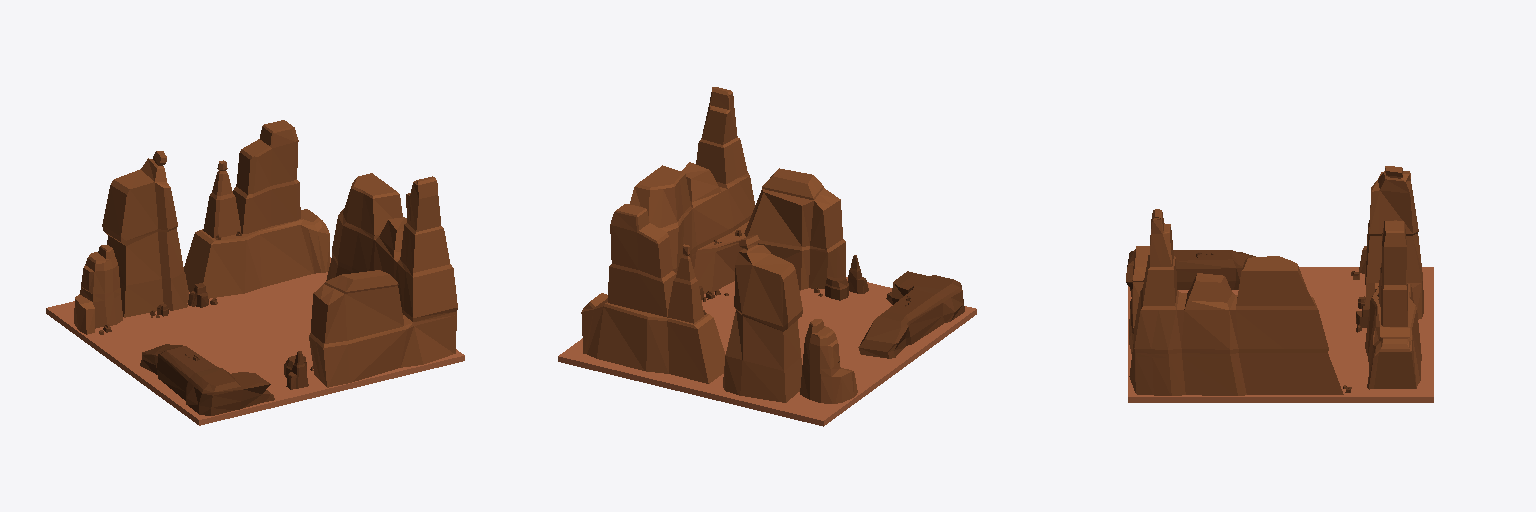
File: map.obj
3 renders of one model, left to right at view 1: azimuth 30°, elevation 25°; view 2: azimuth 150°, elevation 25°; view 3: azimuth 270°, elevation 25°, orthographic.
Parts seen in each view (by area): view 1: Cube.008_meshId14_name, Cube_meshId16_name, Cube.018_meshId13_name; view 2: Cube.008_meshId14_name, Cube_meshId16_name, Cube.018_meshId13_name; view 3: Cube.008_meshId14_name, Cube_meshId16_name, Cube.018_meshId13_name.
Boxes of the visible parts, x1=… form: Cube.008_meshId14_name: x1=74, y1=120, x2=457, y2=387; Cube_meshId16_name: x1=46, y1=257, x2=464, y2=425; Cube.018_meshId13_name: x1=99, y1=231, x2=313, y2=415; Cube.008_meshId14_name: x1=581, y1=87, x2=857, y2=403; Cube_meshId16_name: x1=558, y1=277, x2=976, y2=426; Cube.018_meshId13_name: x1=699, y1=230, x2=964, y2=358; Cube.008_meshId14_name: x1=1129, y1=166, x2=1423, y2=395; Cube_meshId16_name: x1=1128, y1=267, x2=1433, y2=402; Cube.018_meshId13_name: x1=1126, y1=250, x2=1378, y2=392.
Size of the model in its own units: 127 by 86.94 by 127.